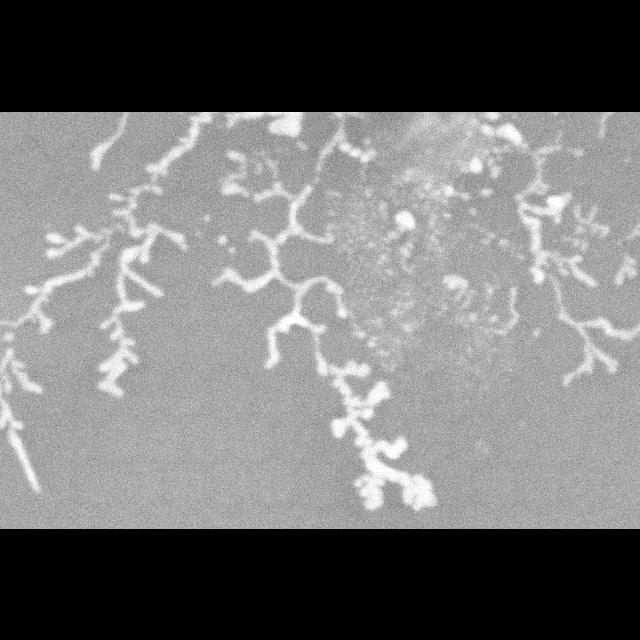dendrites: (213, 147, 438, 511), (0, 111, 212, 494), (480, 124, 640, 383), (316, 111, 375, 169), (91, 112, 132, 168), (221, 111, 302, 137), (484, 284, 518, 332), (378, 208, 416, 245), (443, 274, 478, 313), (618, 253, 638, 283), (440, 181, 470, 201), (465, 156, 482, 174)
